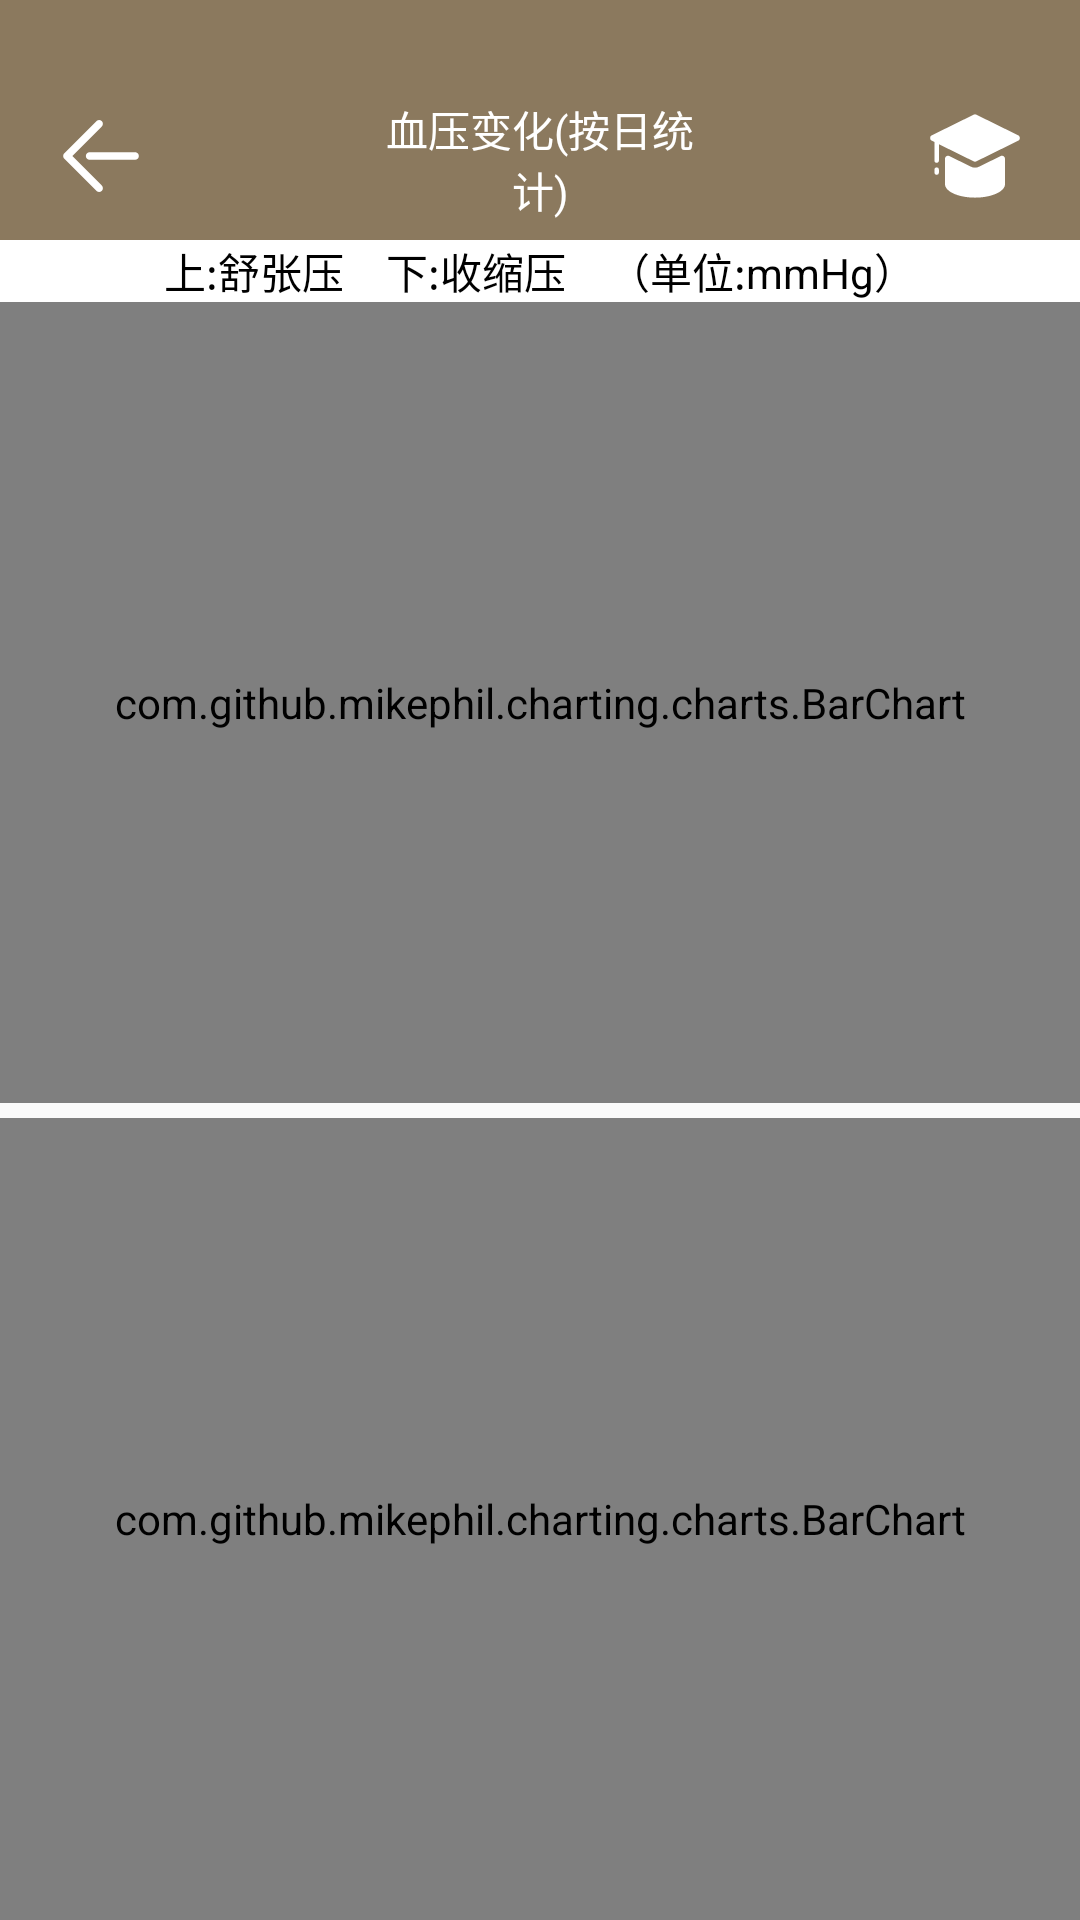

Screen size 1080×1920. Icon name, then its box in pixels as (x1, y1, x2, y2):
back: (63, 120, 139, 192)
knowledge: (930, 114, 1020, 198)
